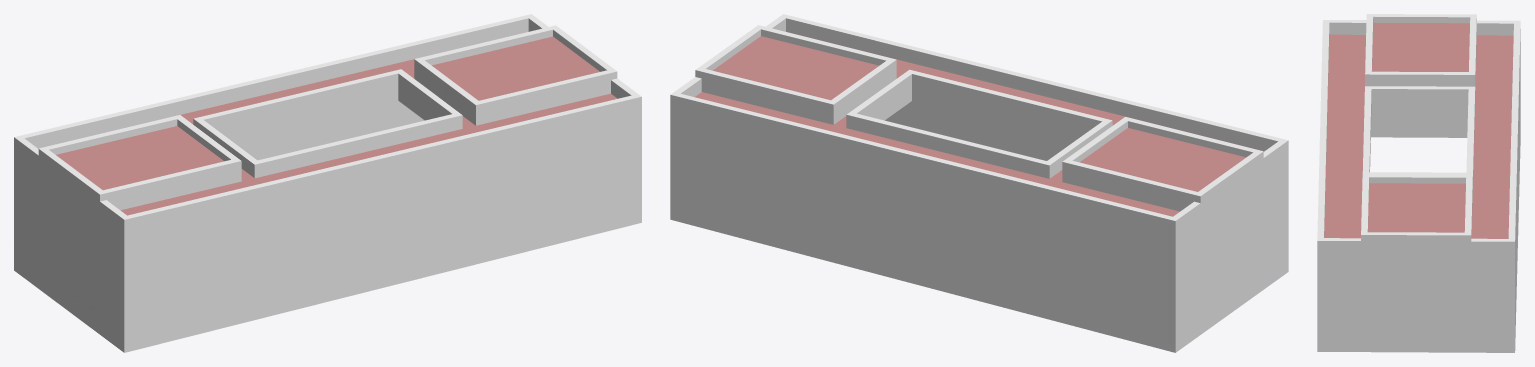
The model's file is LOD_Block_1_76.glb.
3 views of the same model, side by side, from view 1: azimuth 30°, elevation 25°; view 2: azimuth 150°, elevation 25°; view 3: azimuth 270°, elevation 25° (orthographic). The views are drawn at different scales.
Visible parts, largest first — view 1: mesh_CityEngineMaterial_1011; view 2: mesh_CityEngineMaterial_1011; view 3: mesh_CityEngineMaterial_1011.
Part boxes in pixels (x1,y1,x2,y2): mesh_CityEngineMaterial_1011: (14, 14, 641, 352); mesh_CityEngineMaterial_1011: (670, 14, 1288, 352); mesh_CityEngineMaterial_1011: (1317, 14, 1520, 352).
Size of the model in its own units: 39.64 by 10.3 by 15.36.
